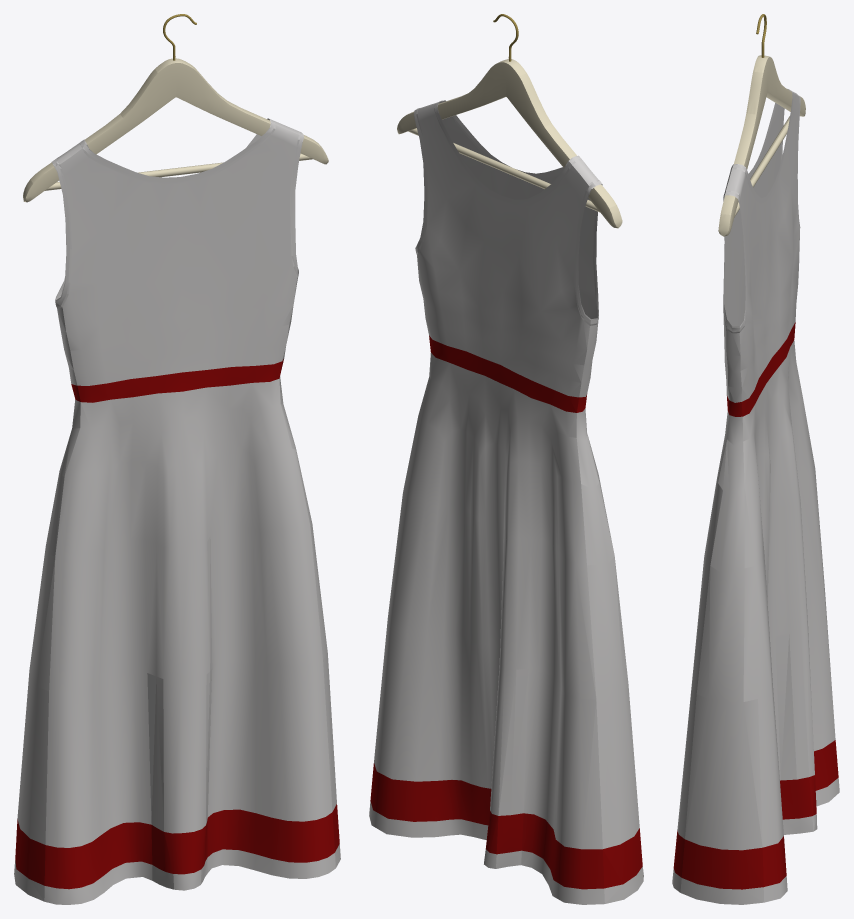
File: dress.fbx
The picture shows the model from 3 angles, left to right: view 1: azimuth 30°, elevation 25°; view 2: azimuth 150°, elevation 25°; view 3: azimuth 270°, elevation 25°; orthographic projection. The views are drawn at different scales.
Visible parts, largest first — view 1: Box32, Box31, Line29; view 2: Box32, Box31, Line29; view 3: Box32, Box31, Line29.
Boxes of the visible parts, box(x1,y1,x2,y2) form: Box32: box(14, 118, 340, 904); Box31: box(23, 58, 328, 202); Line29: box(45, 153, 312, 190); Box32: box(369, 100, 643, 904); Box31: box(397, 59, 622, 228); Line29: box(408, 128, 599, 212); Box32: box(672, 89, 839, 904); Box31: box(718, 55, 805, 236); Line29: box(734, 116, 789, 217).
Size of the model in its own units: 8.6 by 24.64 by 4.54.
